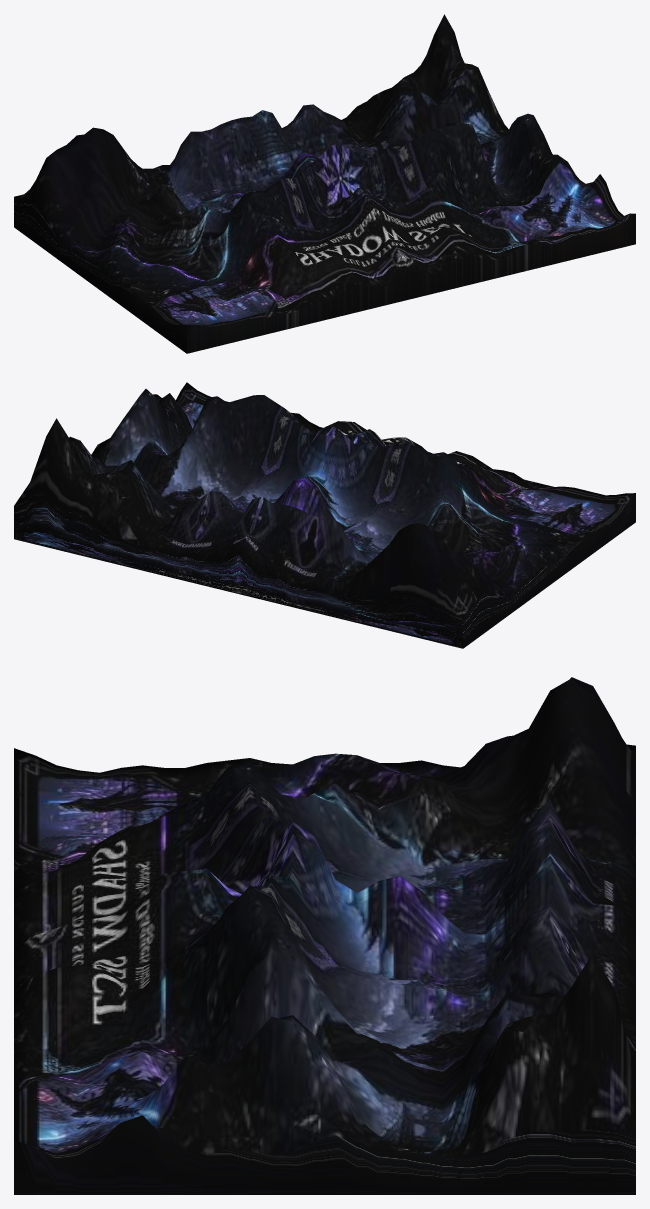
File: SECT_11_Shadow_Sect.glb
The picture shows the model from 3 angles, top to bottom: view 1: azimuth 30°, elevation 25°; view 2: azimuth 150°, elevation 25°; view 3: azimuth 270°, elevation 25°; orthographic projection. The views are drawn at different scales.
Parts seen in each view (by area): view 1: SECT_11_Shadow_Sect; view 2: SECT_11_Shadow_Sect; view 3: SECT_11_Shadow_Sect.
Part boxes in pixels (x1,y1,x2,y2): SECT_11_Shadow_Sect: (14,14,635,353); SECT_11_Shadow_Sect: (14,382,635,648); SECT_11_Shadow_Sect: (14,677,635,1194).
Size of the model in its own units: 2 by 0.51 by 1.33.
1 material, 1 textured.
